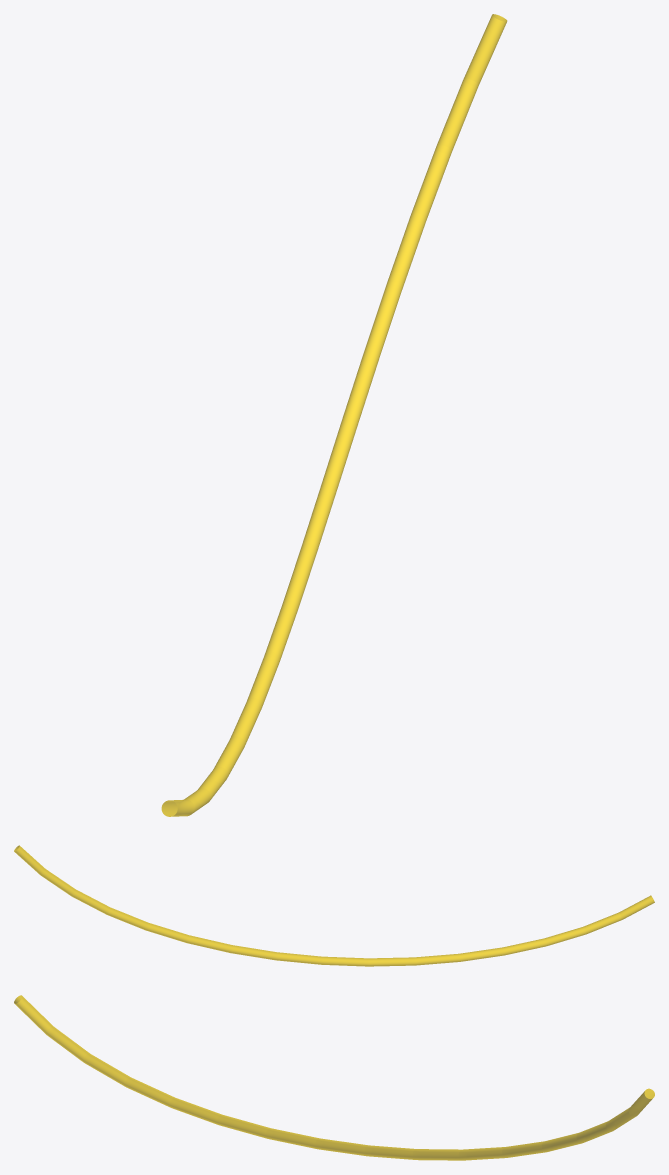
File: Event_100608114_track_28.fbx
3 renders of one model, top to bottom at view 1: azimuth 30°, elevation 25°; view 2: azimuth 150°, elevation 25°; view 3: azimuth 270°, elevation 25°, orthographic. The views are drawn at different scales.
Parts seen in each view (by area): view 1: Model; view 2: Model; view 3: Model.
Part boxes in pixels (<box>): Model: <box>161,14,507,816</box>; Model: <box>14,845,654,966</box>; Model: <box>14,995,654,1160</box>.
Bounding box in the file's own units: 2.25 × 0.8695 × 2.3.
